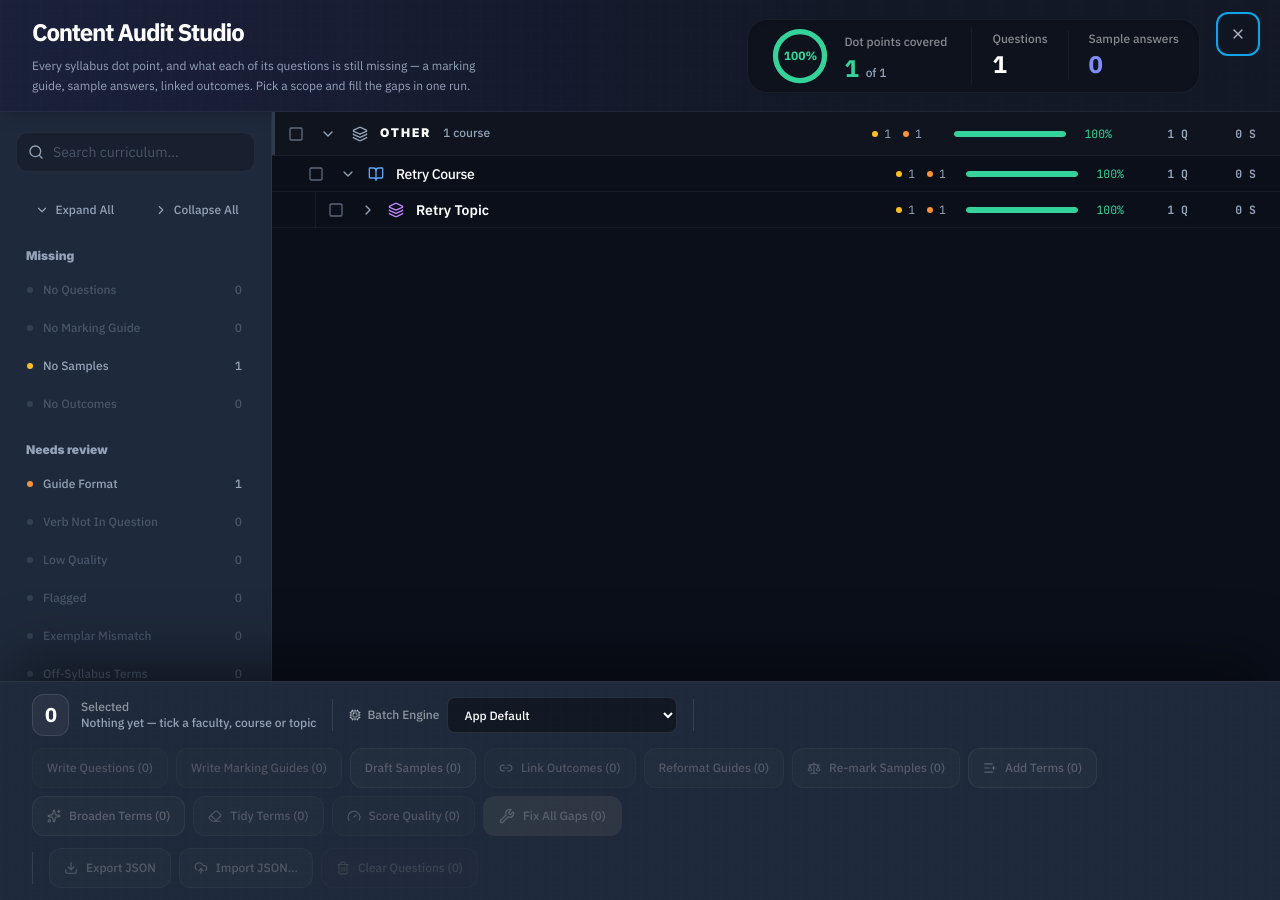
Test: Content Audit Studio — picking up what a run dropped › offers the failures back as a retry, and clears it once they pass
This screenshot has width=1280, height=900.
Click the button named "Select Retry Course": (316, 174) x1=308 y1=166 x2=324 y2=182
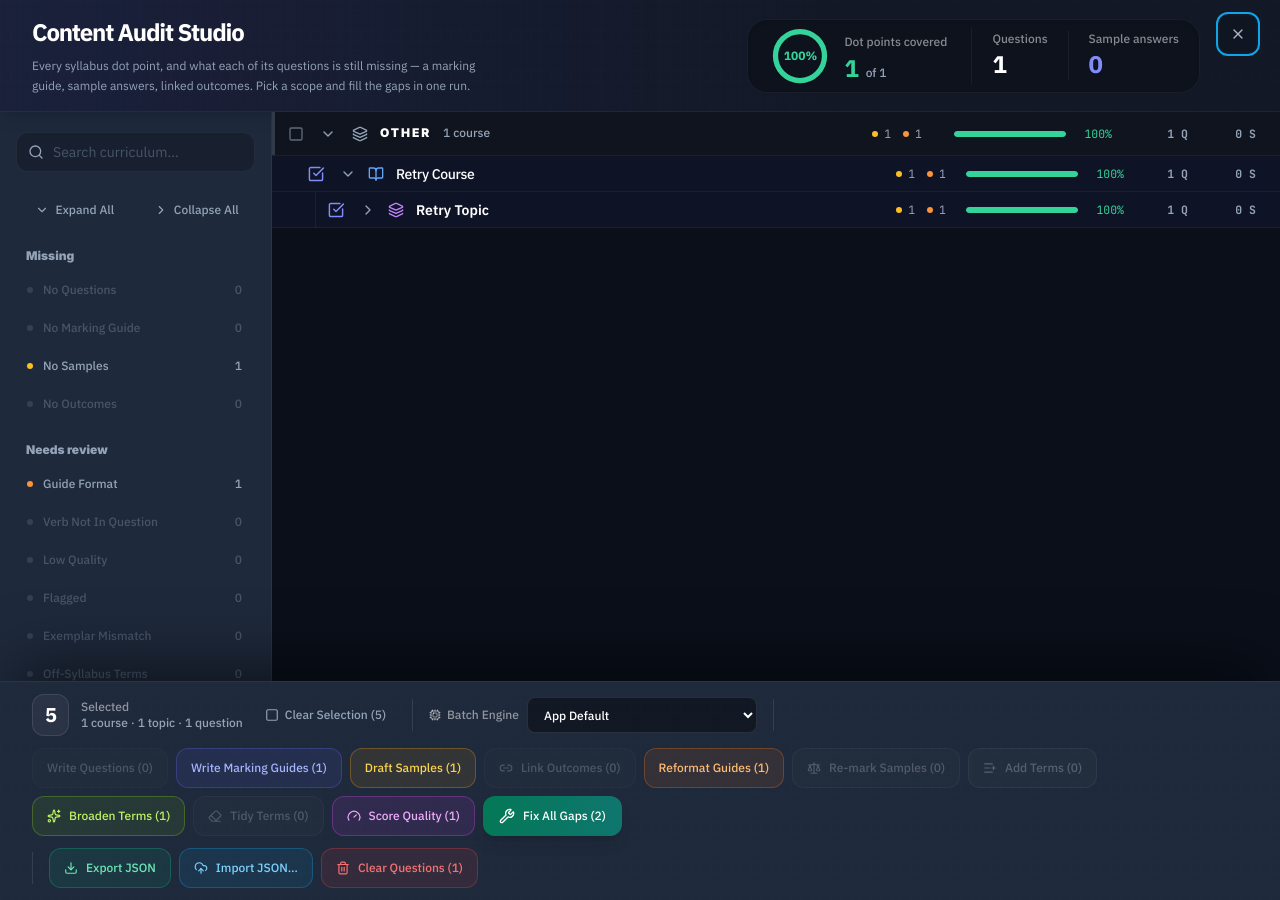
Click the button "Score Quality (1)": (403, 816) x1=332 y1=796 x2=475 y2=836
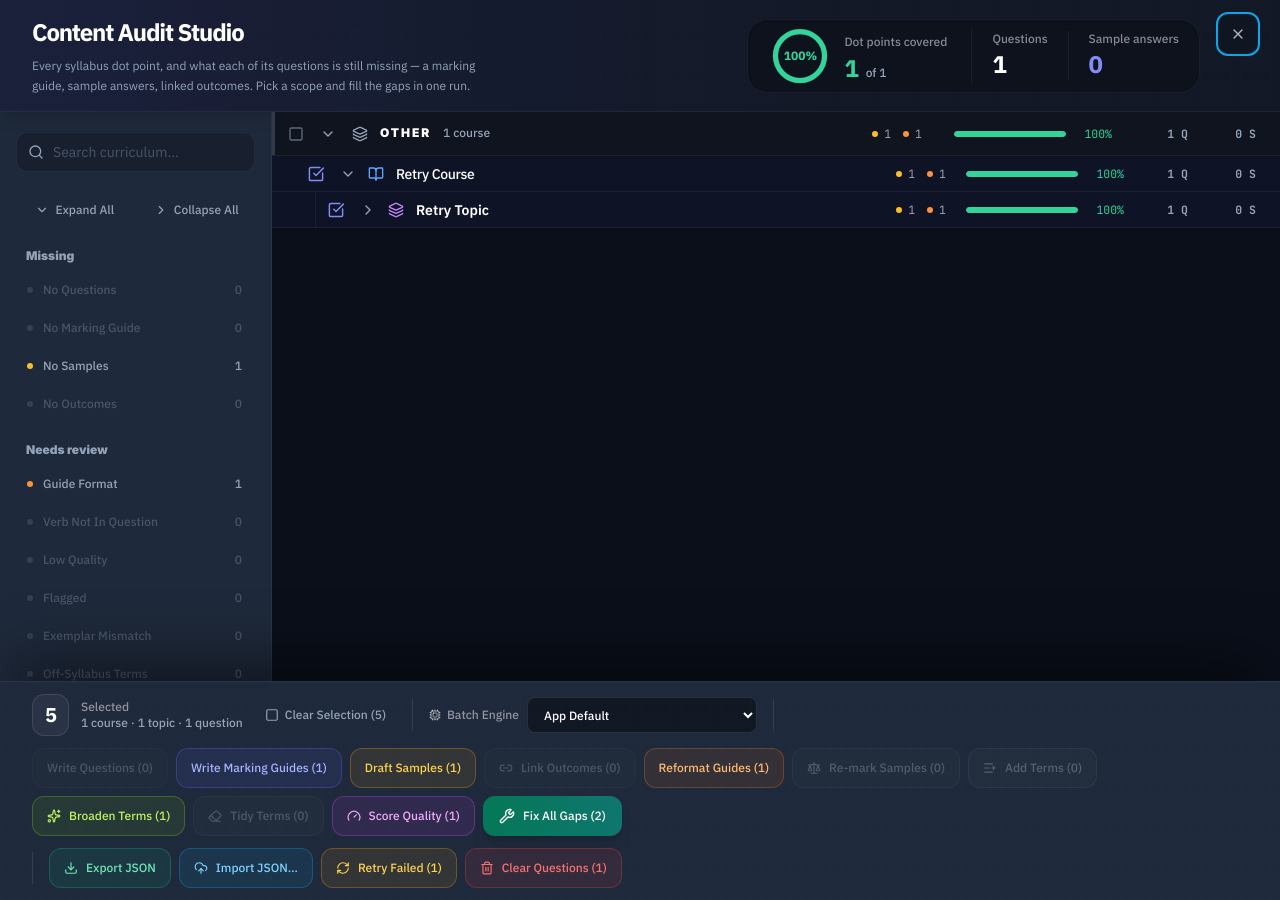
Now the button "Retry Failed (1)" is shown
Click the button "Retry Failed (1)": (389, 868) x1=321 y1=848 x2=457 y2=888
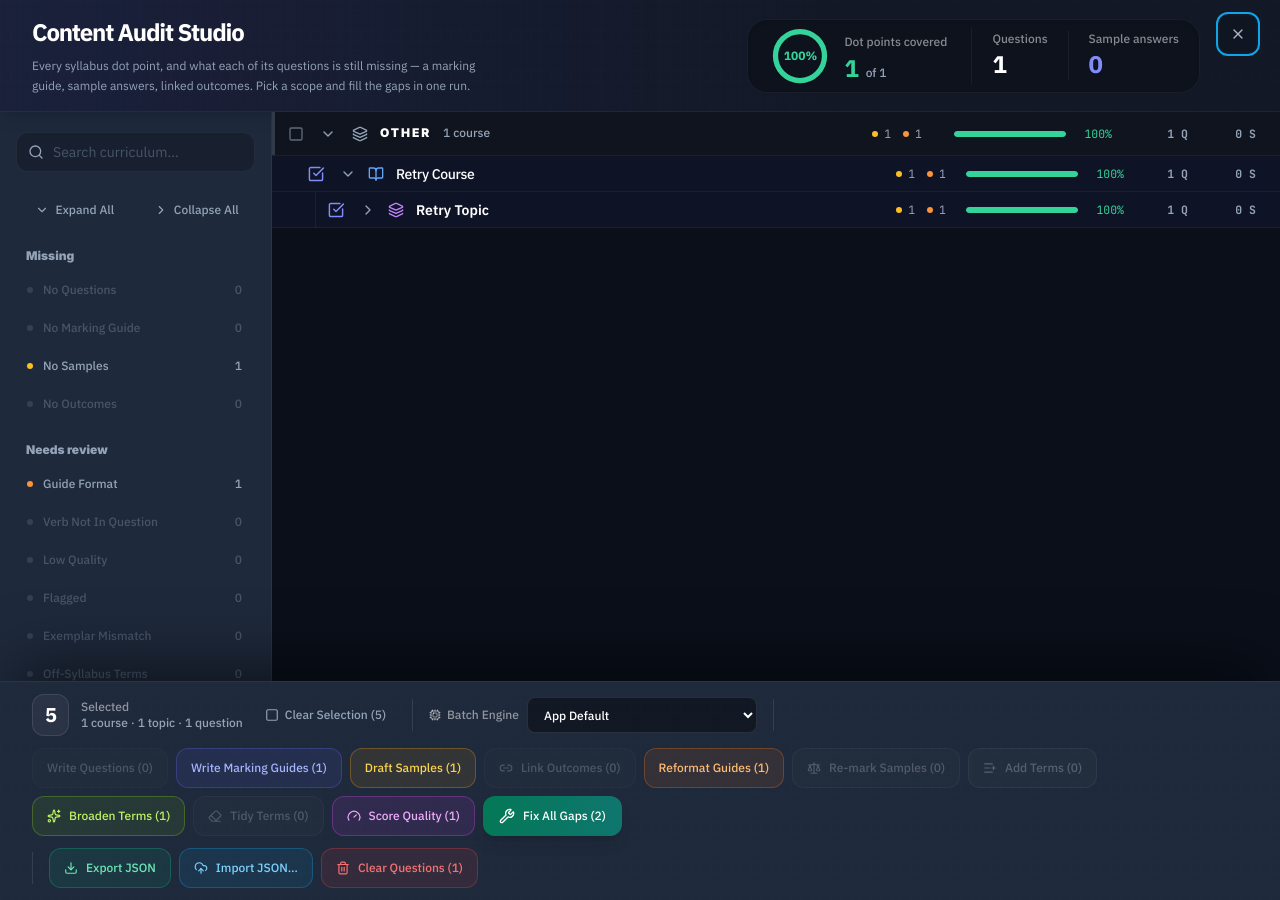
Now the button "Retry Failed" is gone
